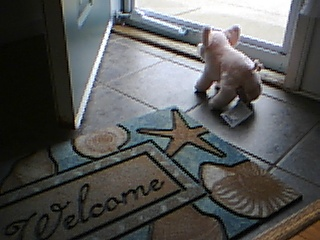piggy: (194, 22, 265, 111)
